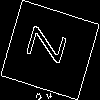Z: (25, 25, 77, 68)
